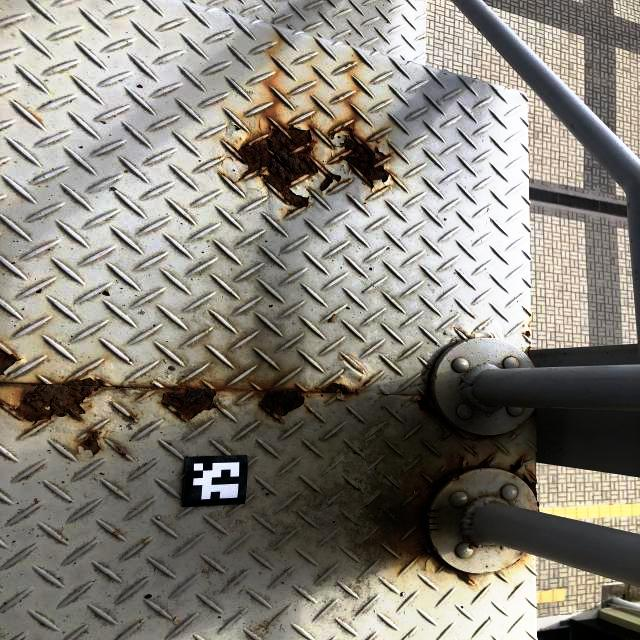Corrosion: (237, 125, 341, 208), (0, 378, 106, 423), (343, 127, 389, 188), (418, 389, 463, 438), (161, 384, 218, 422), (259, 390, 304, 422), (433, 457, 466, 484), (0, 343, 19, 375), (77, 430, 100, 456), (321, 382, 353, 395), (327, 122, 350, 139), (523, 477, 538, 502), (509, 459, 522, 475), (419, 542, 432, 557), (460, 572, 475, 585), (115, 445, 128, 457), (127, 414, 136, 421), (480, 462, 489, 468), (527, 347, 531, 360), (525, 330, 531, 337), (375, 139, 381, 142)
